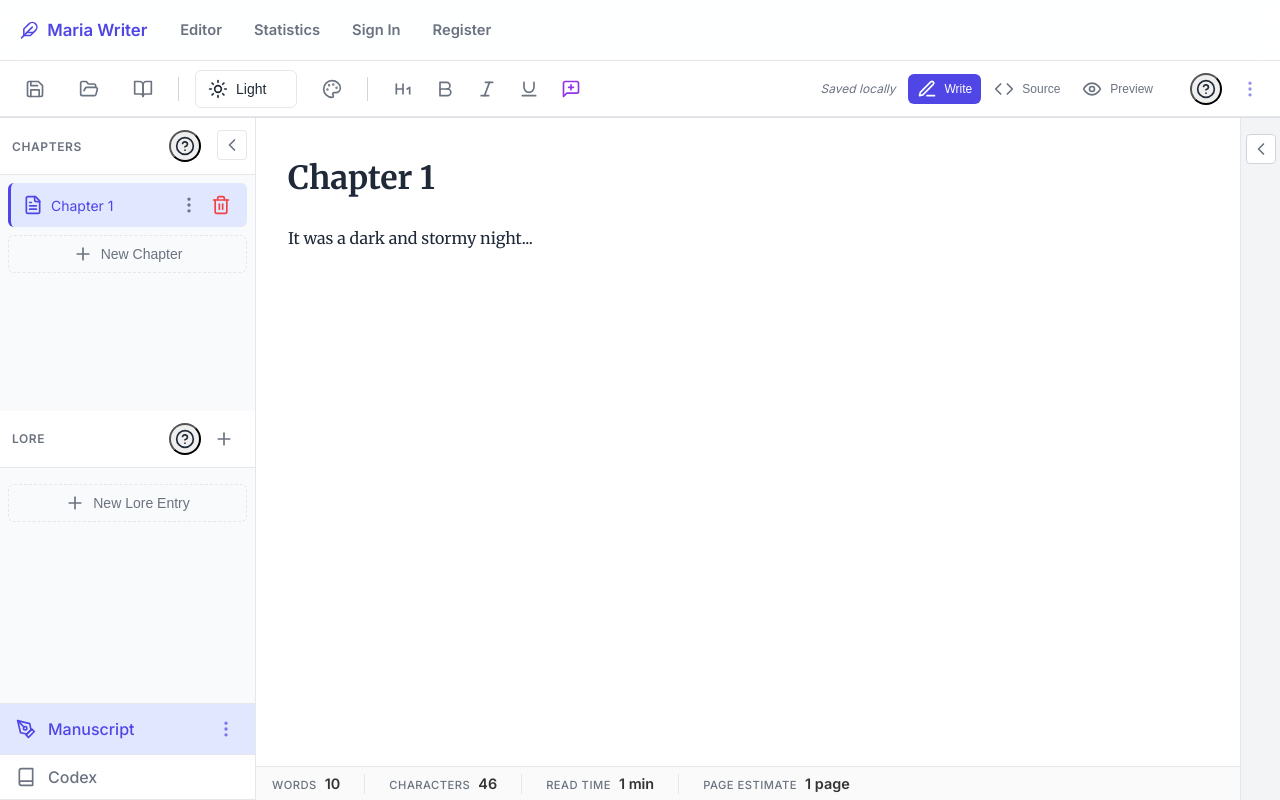
Test: App Integration › switches to Codex view
The width and height of the screenshot is (1280, 800).
Click the text "Codex": (73, 777) [48, 767, 97, 787]
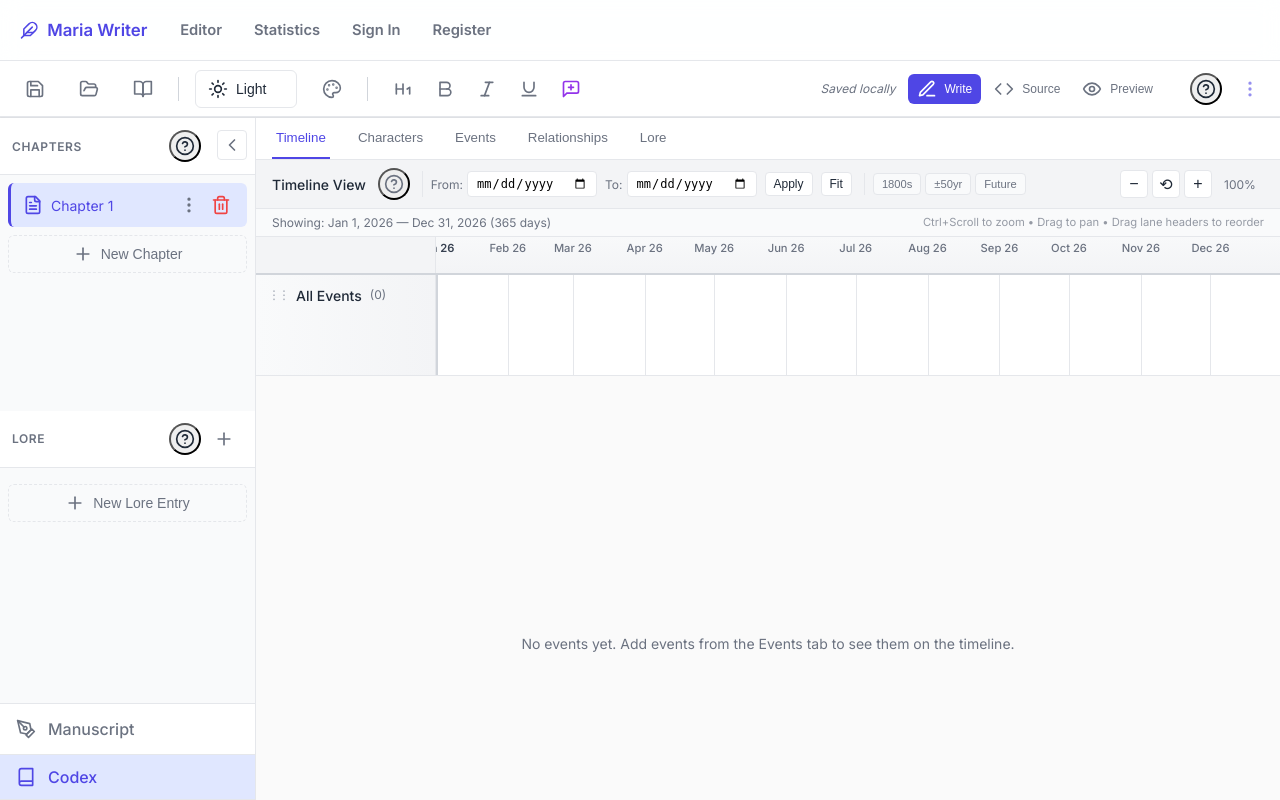
expect the button "Characters" is shown: met, box [354, 118, 427, 159]
expect the button "Timeline" is shown: met, box [272, 118, 330, 159]
expect the button "Events" is shown: met, box [451, 118, 500, 159]
